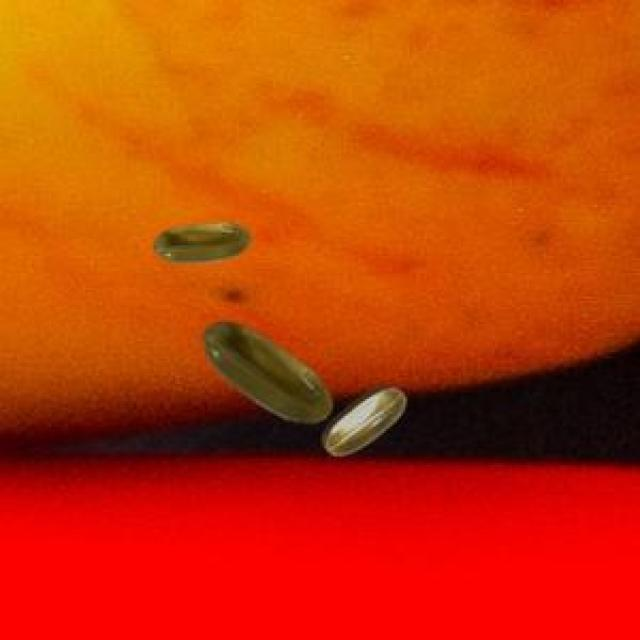Fish_Oil: (192, 308, 415, 470), (145, 207, 257, 280)
